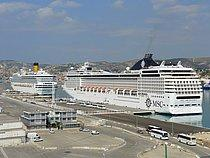Ship: (62, 62, 208, 117), (10, 61, 60, 99)
